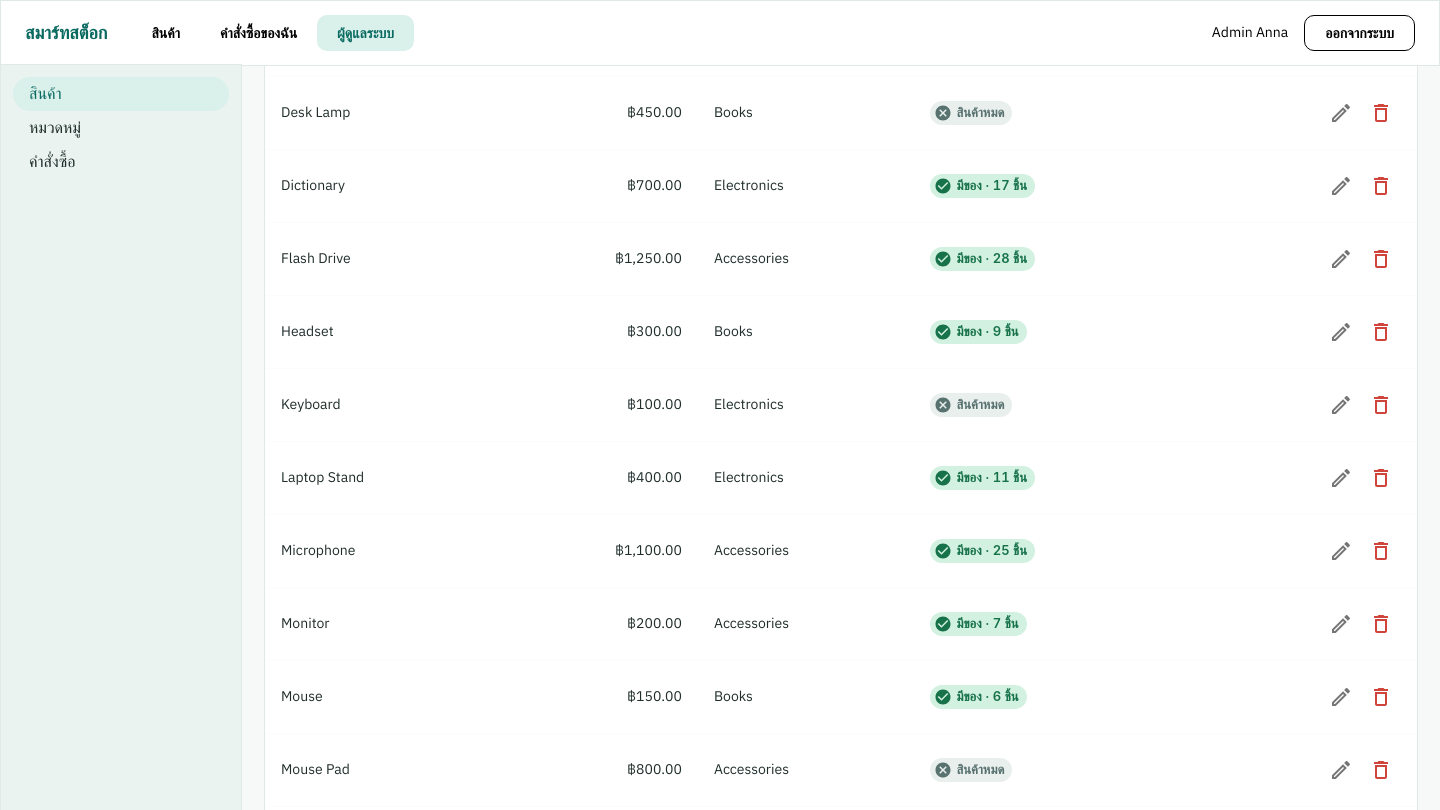
keeps the row when the delete is cancelled
The width and height of the screenshot is (1440, 810).
(page scrolled)
Click the button named "ลบ Keyboard" at (1381, 405), box [1361,385,1401,425]
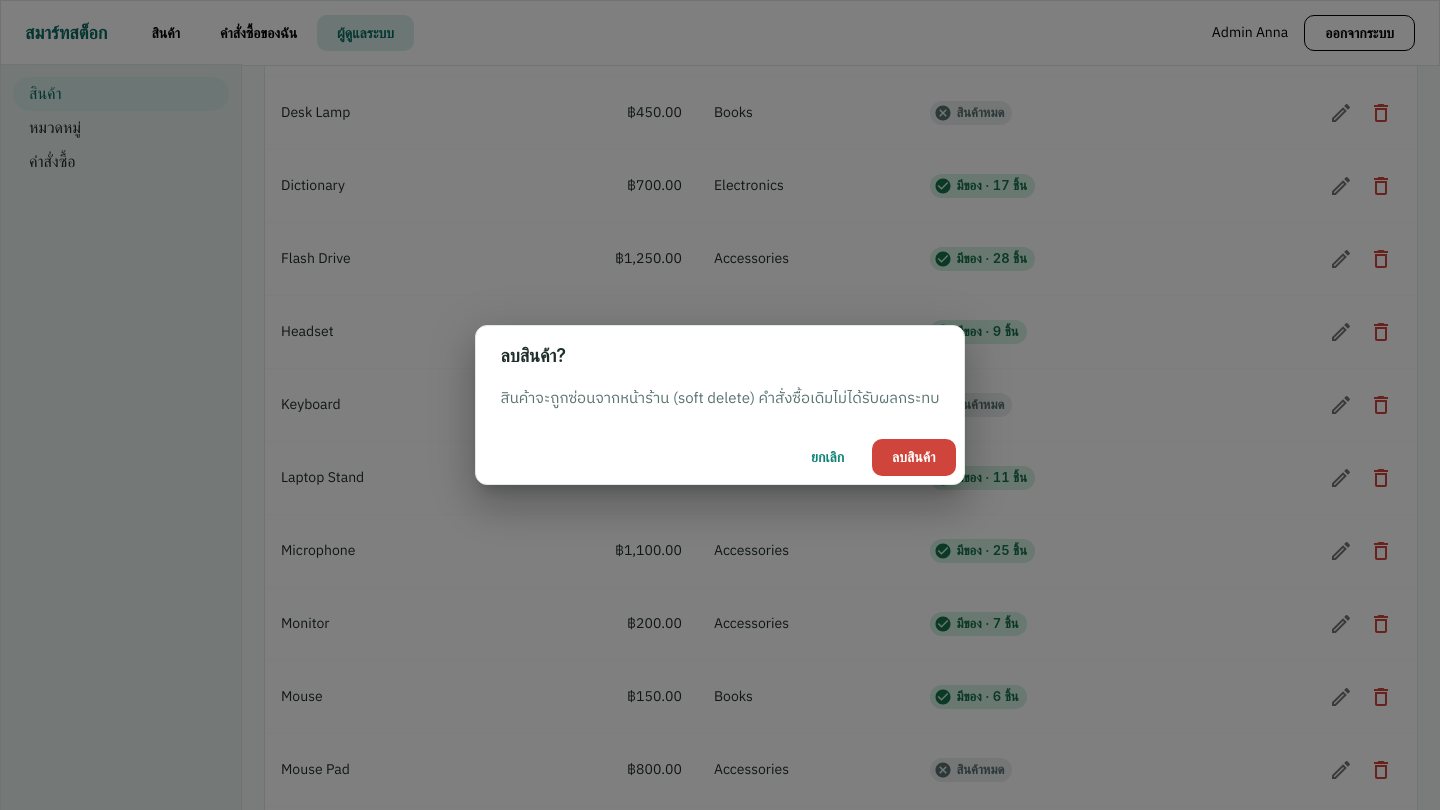
Click the button "ยกเลิก" at (828, 457), box [791,439,864,476]
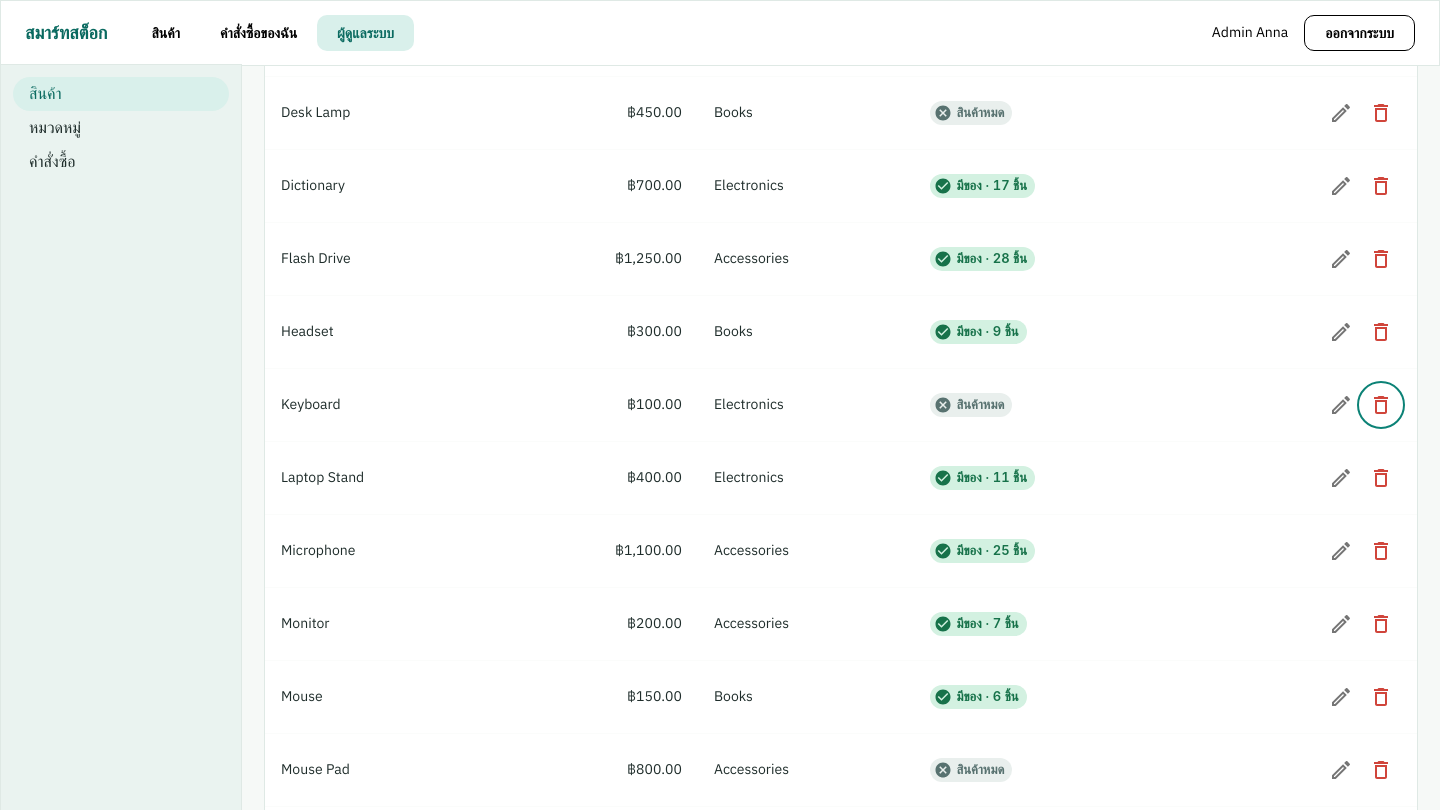
Expected: the cell "Keyboard" is shown, [265,369,498,442]
Result: the dialog is gone
